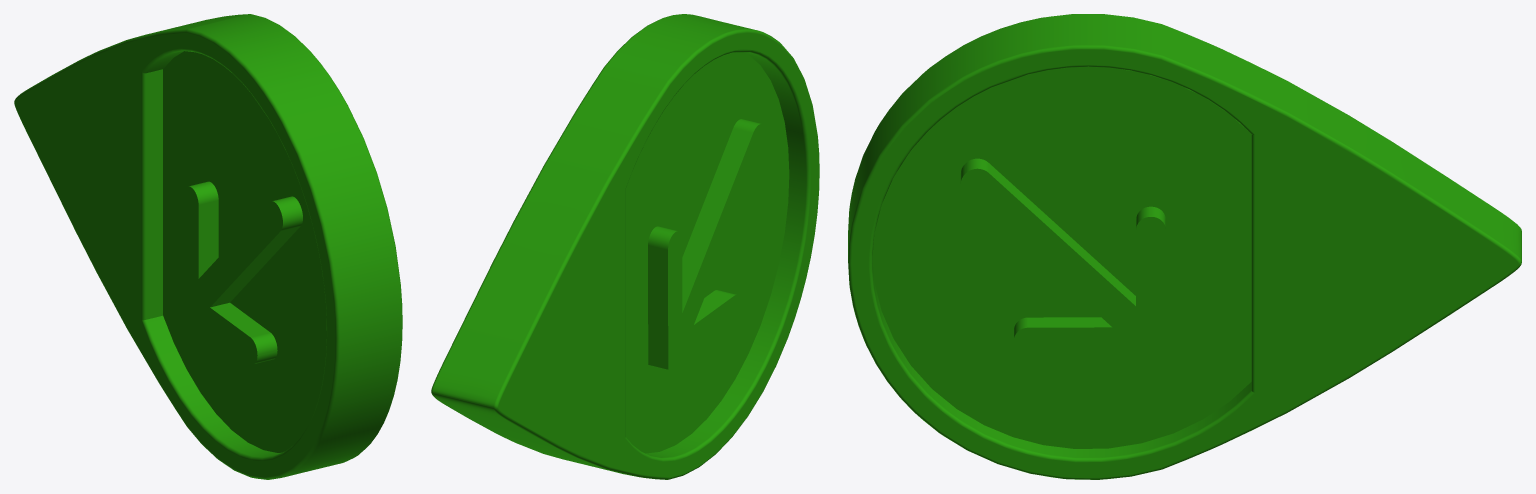
Rendered from ICONO 7.fbx.
3 views of the same model, side by side, from view 1: azimuth 30°, elevation 25°; view 2: azimuth 150°, elevation 25°; view 3: azimuth 270°, elevation 25° (orthographic). The views are drawn at different scales.
Parts seen in each view (by area): view 1: Icono 4; view 2: Icono 4; view 3: Icono 4.
Boxes of the visible parts, x1,y1,x2,y2 form: Icono 4: (14, 14, 402, 479); Icono 4: (431, 14, 819, 479); Icono 4: (848, 14, 1521, 479).
Size of the model in its own units: 112 by 675 by 947.
